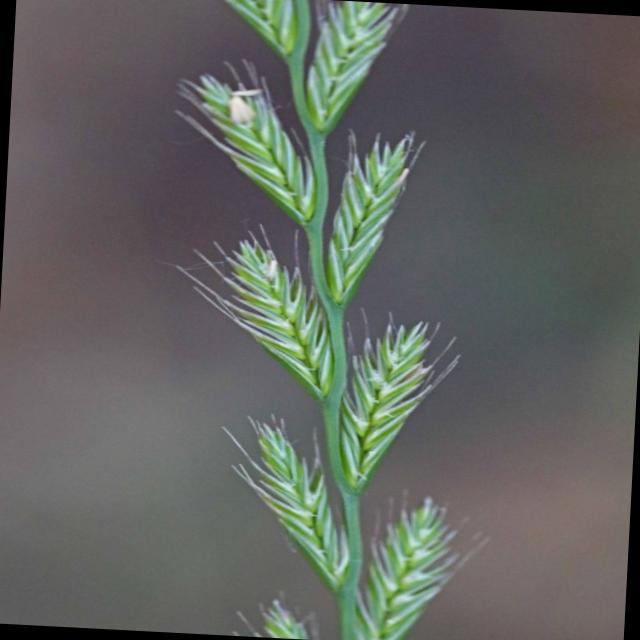Lolium: (139, 0, 518, 640)
